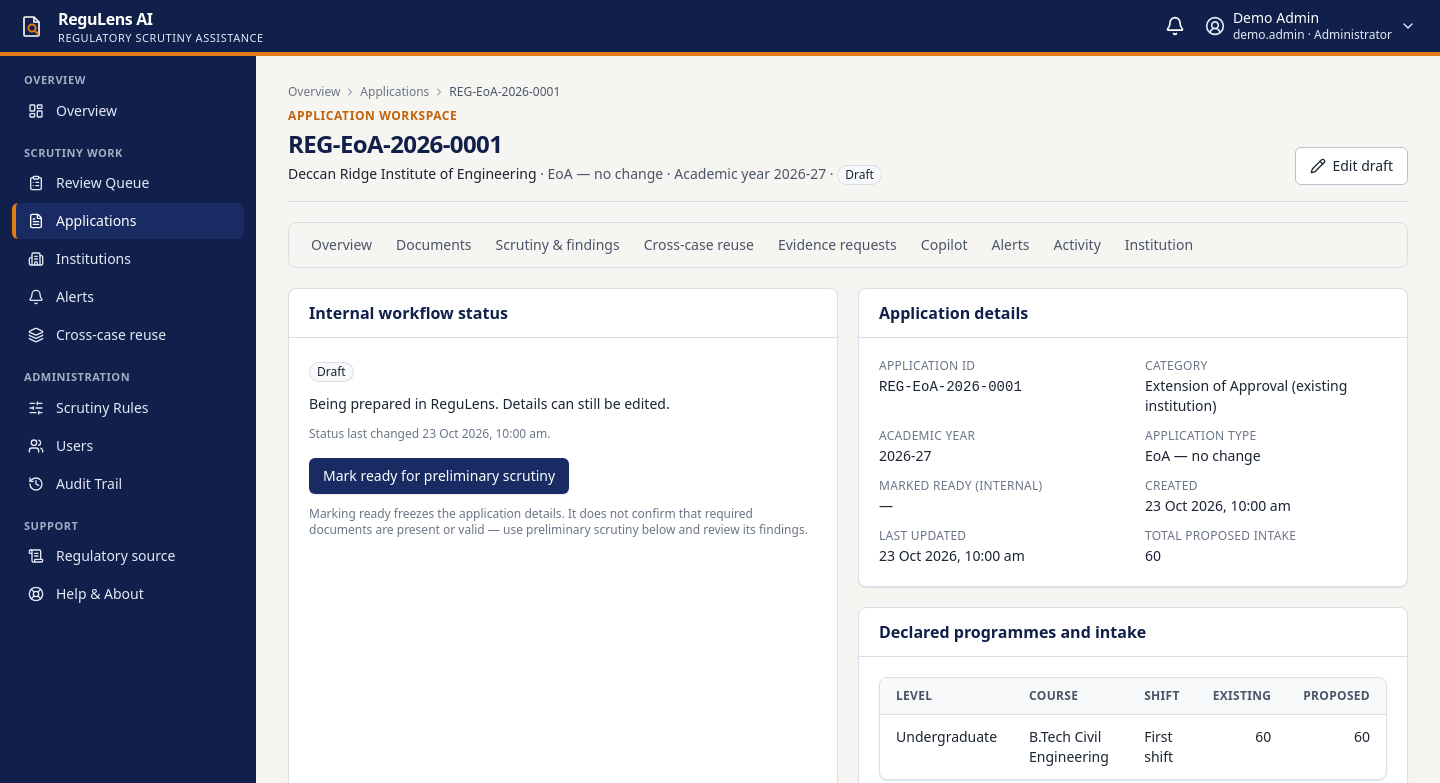
it: Application detail › edits a draft through PATCH
Click the button "Edit draft" at [1352, 166], box [1296, 147, 1408, 185]
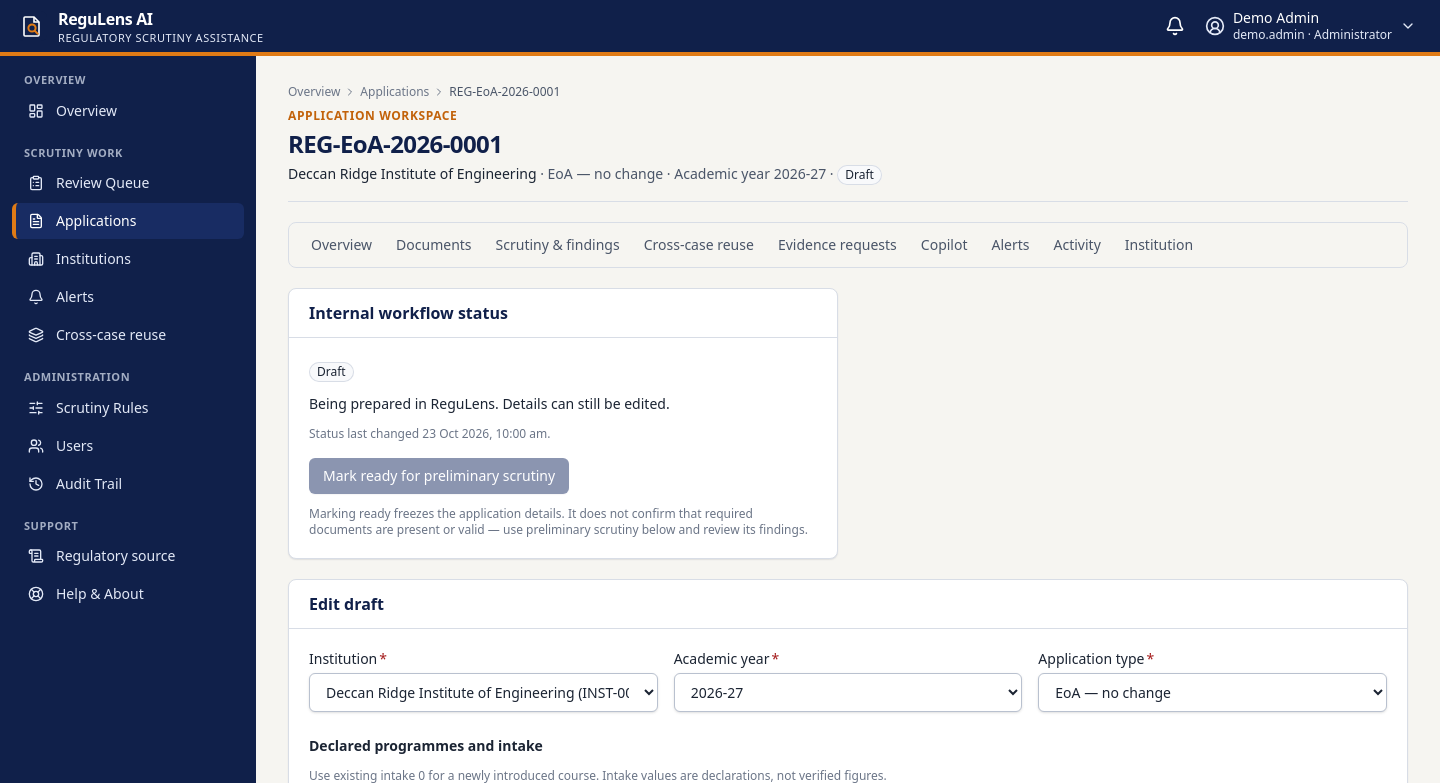
Check: the dropdown labelled "Academic year" shows "2026-27"
Select "2027-28" in the dropdown labelled "Academic year" at [848, 692], box [674, 673, 1022, 712]
(page scrolled)
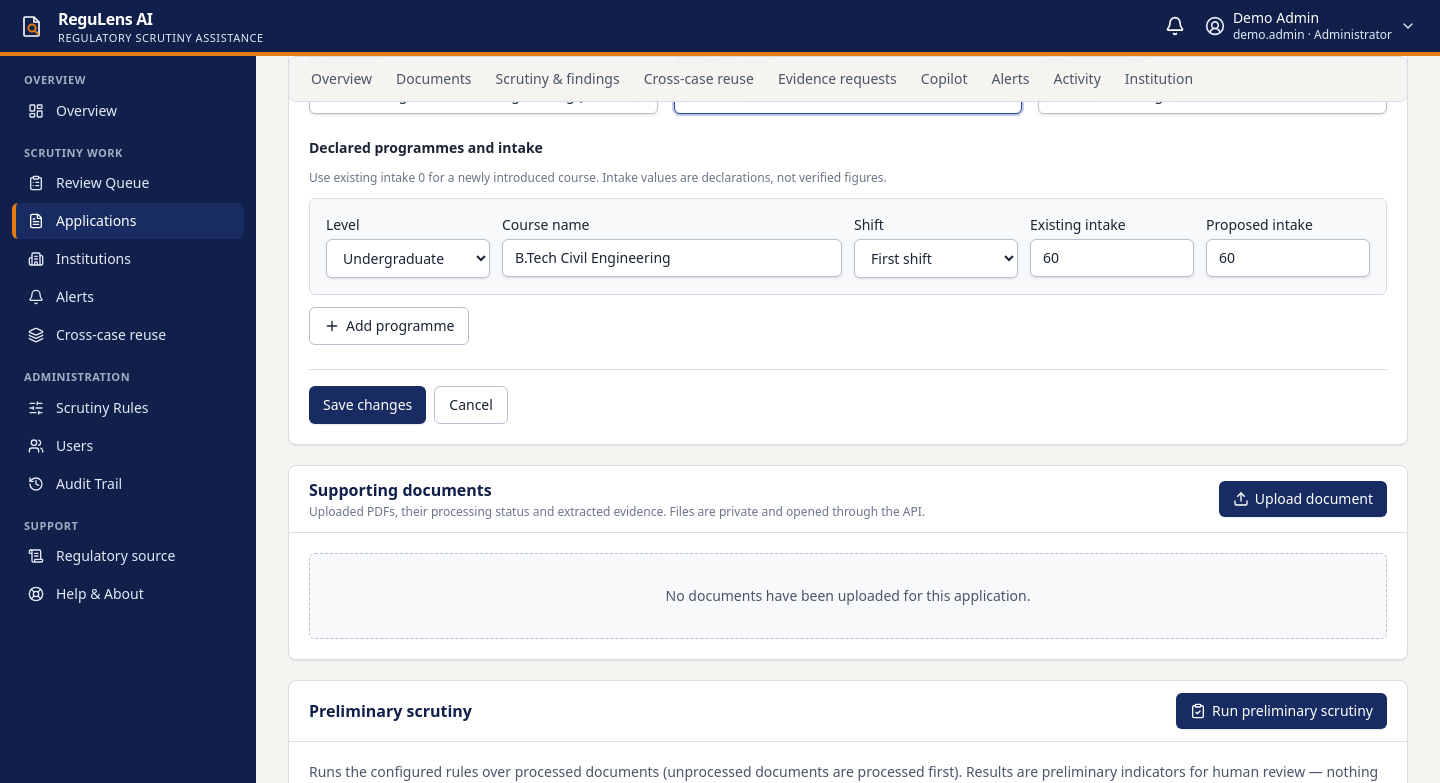
Click the button "Save changes" at [368, 405], box [309, 386, 426, 424]
(page scrolled)
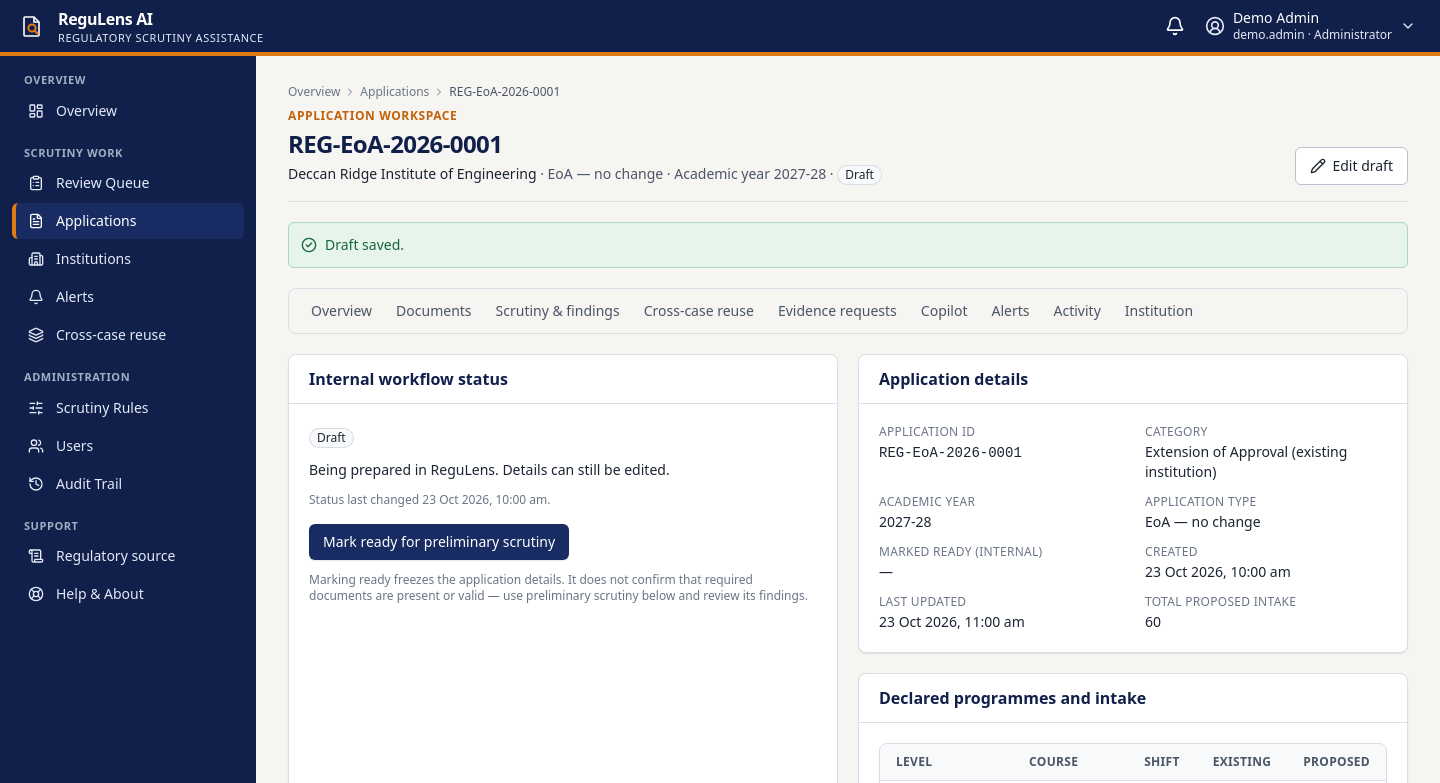
Check: the text "Draft saved." is shown, box [325, 235, 404, 255]
Check: the text "Academic year 2027-28" is shown, box [288, 164, 882, 185]
